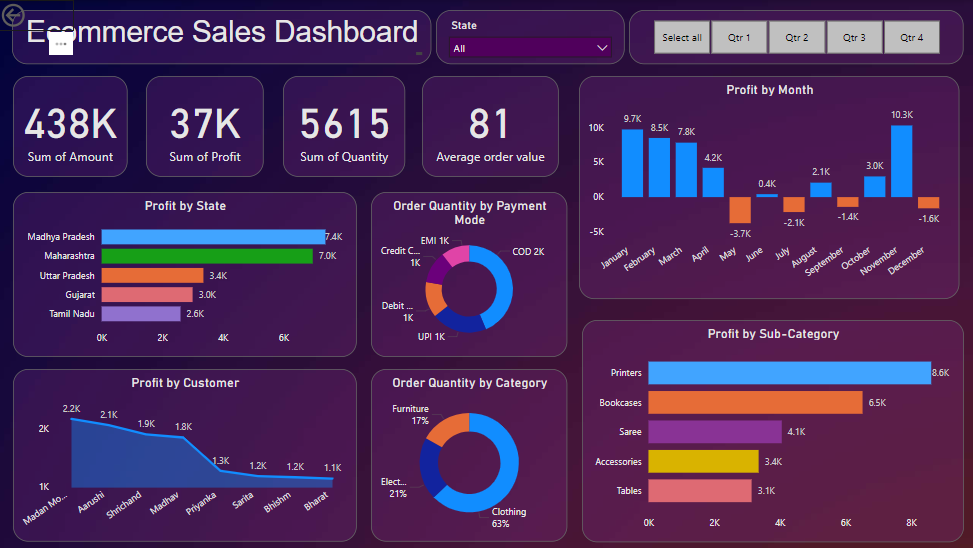

What the dashboard file says about the page in this screenshot:
{"tool":"powerbi","page":{"name":"Page 1","canvas":[1280,720],"ordinal":0},"visuals":[{"type":"textbox","title":"Ecommerce Sales Dashboard","box":[18.3,13.1,548.5,70.7],"z":0},{"type":"columnChart","title":"Profit by Month","fields":{"Y":["Details.Profit"],"Category":["Orders.Order Date.Variation.Date Hierarchy.Month"]},"box":[761.1,99.9,498.1,292.4],"z":1000},{"type":"barChart","title":"Profit by Sub-Category","fields":{"Y":["Details.Profit"],"Category":["Details.Sub-Category"]},"box":[764.1,418.8,499.6,290.9],"z":2000},{"type":"donutChart","title":"Order Quantity by Category","fields":{"Category":["Details.Category"],"Y":["Details.Quantity"]},"box":[487.8,483.4,257.1,226.3],"z":3000},{"type":"donutChart","title":"Order Quantity by Payment Mode","fields":{"Category":["Details.PaymentMode"],"Y":["Details.Quantity"]},"box":[487.8,251.3,257.1,216],"z":4000},{"type":"slicer","fields":{"Values":["Orders.State"]},"box":[573.4,13.1,247.4,70.7],"z":5000},{"type":"slicer","fields":{"Values":["Orders.Order Date.Variation.Date Hierarchy.Quarter"]},"box":[825.8,13.2,437.9,70.5],"z":6000},{"type":"card","fields":{"Values":["Details.Amount"]},"box":[19.1,99.9,149.9,132.2],"z":7000},{"type":"card","fields":{"Values":["Details.Profit"]},"box":[194,99.9,154.3,132.2],"z":8000},{"type":"card","fields":{"Values":["Details.Quantity"]},"box":[373.2,99.9,160.2,132.2],"z":9000},{"type":"card","fields":{"Values":["Details.Average"]},"box":[555.4,99.9,179.3,132.2],"z":10000},{"type":"barChart","title":"Profit by State","fields":{"Y":["Details.Profit"],"Category":["Orders.State"]},"box":[19.6,251.3,458.2,216],"z":11000},{"type":"areaChart","title":"Profit by Customer","fields":{"Category":["Orders.CustomerName"],"Y":["Details.Profit"]},"box":[19.6,483.1,458.2,226.5],"z":12000},{"type":"actionButton","box":[0,0,100,40],"z":13000}]}

Visuals, with their boxes in screenshot pixels (x1, y1, x2, y2), scaled from the page's 1280x720 canvas onto the 973x548 screenshot:
"Ecommerce Sales Dashboard" textbox: locate(14, 10, 431, 64)
"Profit by Month" columnChart: locate(579, 76, 957, 299)
"Profit by Sub-Category" barChart: locate(581, 319, 961, 540)
"Order Quantity by Category" donutChart: locate(371, 368, 566, 540)
"Order Quantity by Payment Mode" donutChart: locate(371, 191, 566, 356)
slicer - Orders.State: locate(436, 10, 624, 64)
slicer - Orders.Order Date.Variation.Date Hierarchy.Quarter: locate(628, 10, 961, 64)
card - Details.Amount: locate(15, 76, 128, 177)
card - Details.Profit: locate(147, 76, 265, 177)
card - Details.Quantity: locate(284, 76, 405, 177)
card - Details.Average: locate(422, 76, 558, 177)
"Profit by State" barChart: locate(15, 191, 363, 356)
"Profit by Customer" areaChart: locate(15, 368, 363, 540)
actionButton: locate(0, 0, 76, 30)
